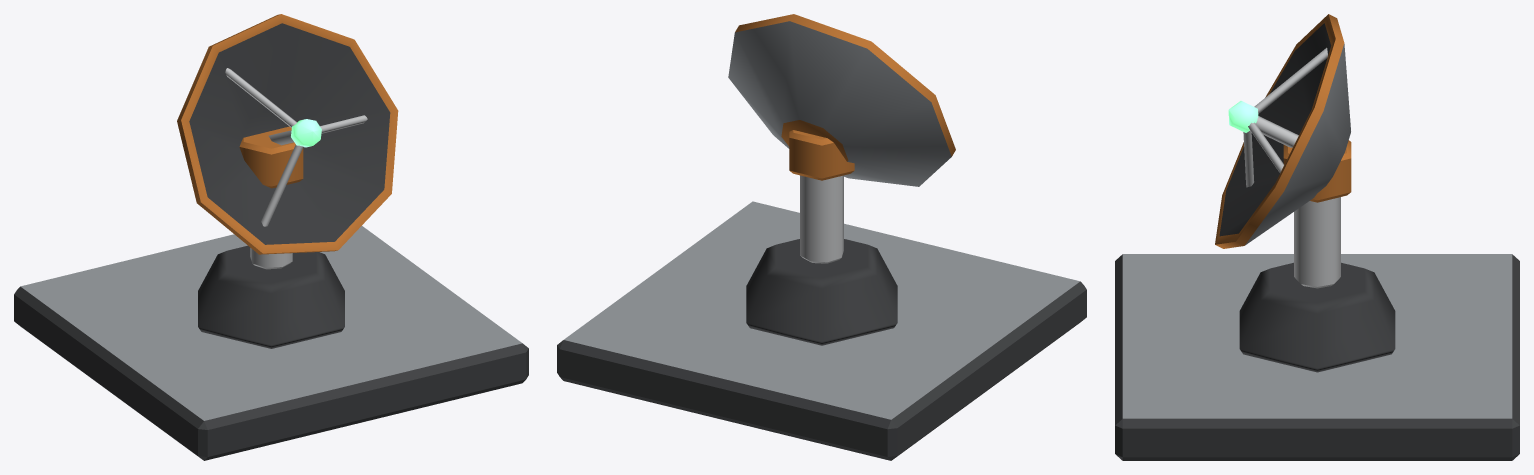
Rendered from R4X_Radar_LOD1.fbx.
The picture shows the model from 3 angles, left to right: view 1: azimuth 30°, elevation 25°; view 2: azimuth 150°, elevation 25°; view 3: azimuth 270°, elevation 25°; orthographic projection. The views are drawn at different scales.
Visible parts, largest first — view 1: R4X_Radar_LOD1; view 2: R4X_Radar_LOD1; view 3: R4X_Radar_LOD1.
Boxes of the visible parts, x1=… form: R4X_Radar_LOD1: x1=14, y1=14, x2=528, y2=460; R4X_Radar_LOD1: x1=557, y1=14, x2=1086, y2=460; R4X_Radar_LOD1: x1=1115, y1=14, x2=1519, y2=460.
Size of the model in its own units: 0.52 by 0.4955 by 0.52.
